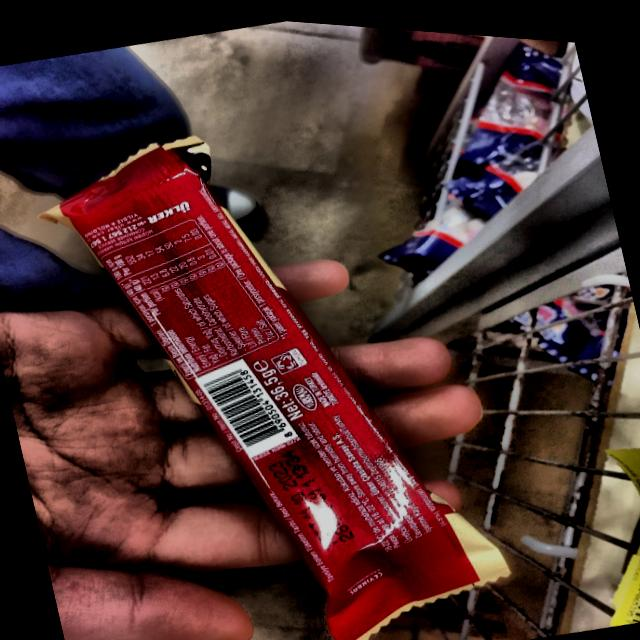Plastic: (31, 122, 520, 640)
